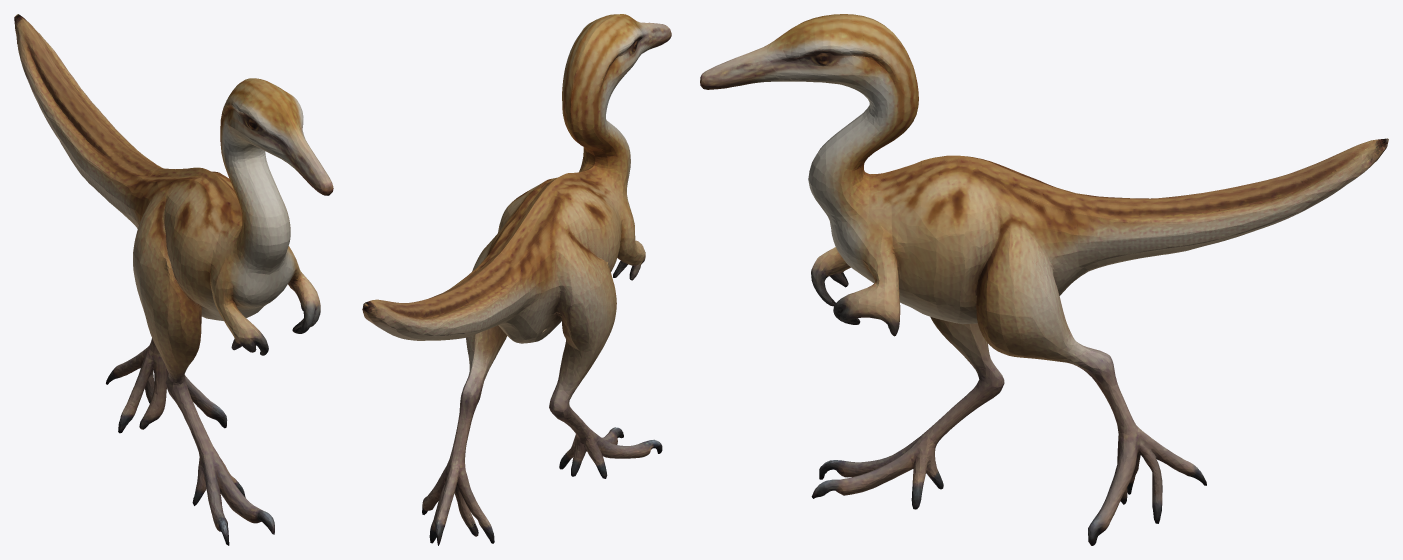
The picture shows the model from 3 angles, left to right: view 1: azimuth 30°, elevation 25°; view 2: azimuth 150°, elevation 25°; view 3: azimuth 270°, elevation 25°; orthographic projection. The views are drawn at different scales.
Parts seen in each view (by area): view 1: world; view 2: world; view 3: world.
Boxes of the visible parts, x1,y1,x2,y2 form: world: [14, 14, 333, 545]; world: [362, 14, 671, 545]; world: [700, 14, 1388, 545].
Size of the model in its own units: 0.2515 by 0.7859 by 1.
1 material, 1 textured.
